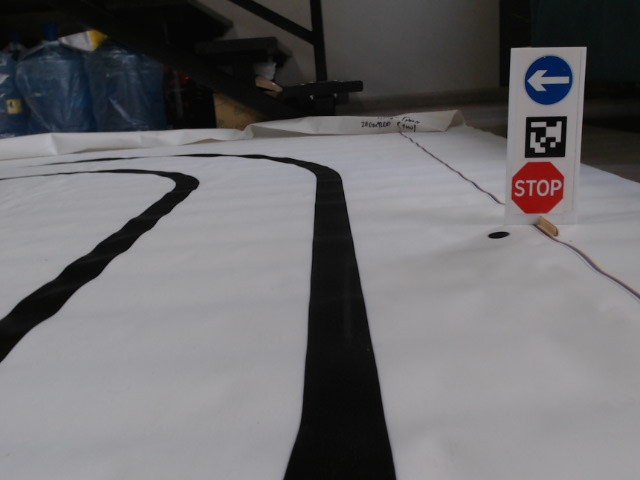Stop: (510, 160, 565, 215)
